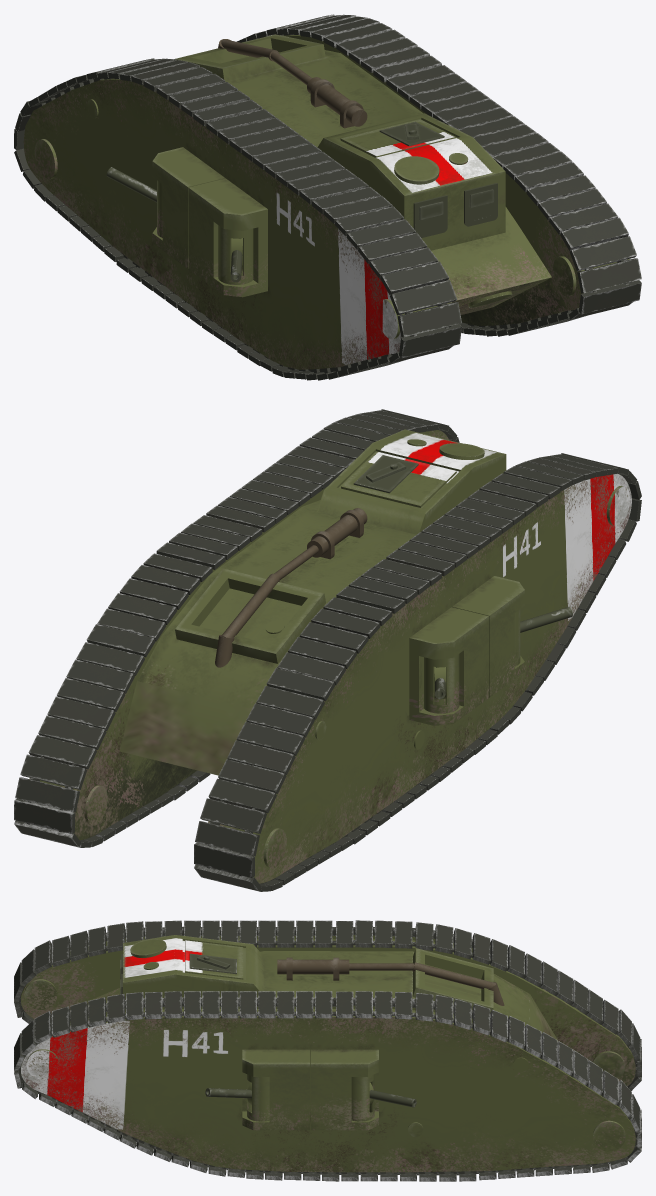
Rendered from tank_-_ww1.glb.
3 renders of one model, top to bottom at view 1: azimuth 30°, elevation 25°; view 2: azimuth 150°, elevation 25°; view 3: azimuth 270°, elevation 25°, orthographic. The views are drawn at different scales.
Parts seen in each view (by area): view 1: obj0_mat0_1, obj0_mat0_3, obj0_mat0_6, obj0_mat0_2, obj0_mat0_5, obj0_mat0_7, obj0_mat0_0, obj0_mat0_8; view 2: obj0_mat0_1, obj0_mat0_6, obj0_mat0_3, obj0_mat0_2, obj0_mat0_5, obj0_mat0_0, obj0_mat0_7, obj0_mat0_8; view 3: obj0_mat0_0, obj0_mat0_2, obj0_mat0_3, obj0_mat0_6, obj0_mat0_4, obj0_mat0_1, obj0_mat0_7, obj0_mat0_8.
Boxes of the visible parts, x1=… form: obj0_mat0_1: x1=23, y1=78, x2=449, y2=369; obj0_mat0_3: x1=14, y1=58, x2=461, y2=380; obj0_mat0_6: x1=174, y1=34, x2=551, y2=314; obj0_mat0_2: x1=237, y1=14, x2=641, y2=336; obj0_mat0_5: x1=152, y1=147, x2=267, y2=297; obj0_mat0_7: x1=106, y1=39, x2=497, y2=282; obj0_mat0_0: x1=283, y1=35, x2=628, y2=325; obj0_mat0_8: x1=34, y1=99, x2=629, y2=339; obj0_mat0_1: x1=208, y1=473, x2=631, y2=883; obj0_mat0_6: x1=119, y1=429, x2=506, y2=775; obj0_mat0_3: x1=194, y1=453, x2=641, y2=891; obj0_mat0_2: x1=14, y1=409, x2=459, y2=847; obj0_mat0_5: x1=409, y1=576, x2=524, y2=725; obj0_mat0_0: x1=29, y1=430, x2=448, y2=840; obj0_mat0_7: x1=215, y1=455, x2=572, y2=699; obj0_mat0_8: x1=84, y1=439, x2=629, y2=868; obj0_mat0_0: x1=21, y1=1006, x2=635, y2=1172; obj0_mat0_2: x1=14, y1=991, x2=641, y2=1181; obj0_mat0_3: x1=14, y1=920, x2=641, y2=1091; obj0_mat0_6: x1=87, y1=935, x2=557, y2=1041; obj0_mat0_4: x1=242, y1=1049, x2=378, y2=1130; obj0_mat0_1: x1=21, y1=935, x2=635, y2=1086; obj0_mat0_7: x1=120, y1=953, x2=504, y2=1107; obj0_mat0_8: x1=24, y1=939, x2=625, y2=1151.
Size of the model in its own units: 46.81 by 29.48 by 92.37.
9 materials, 9 textured.
